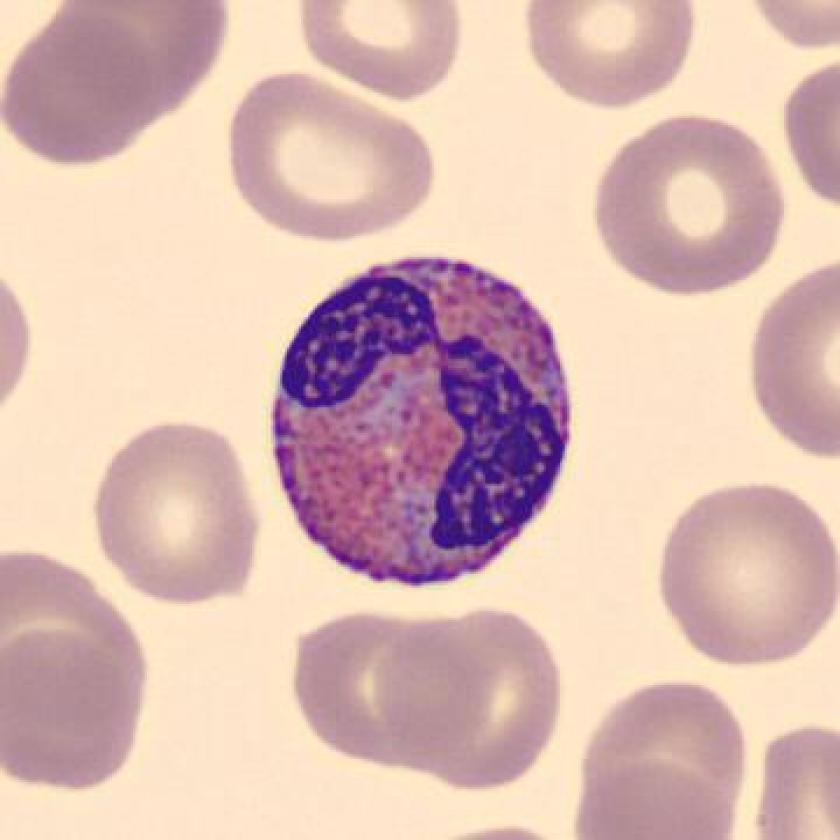eosinophil: (260, 239, 584, 603)
